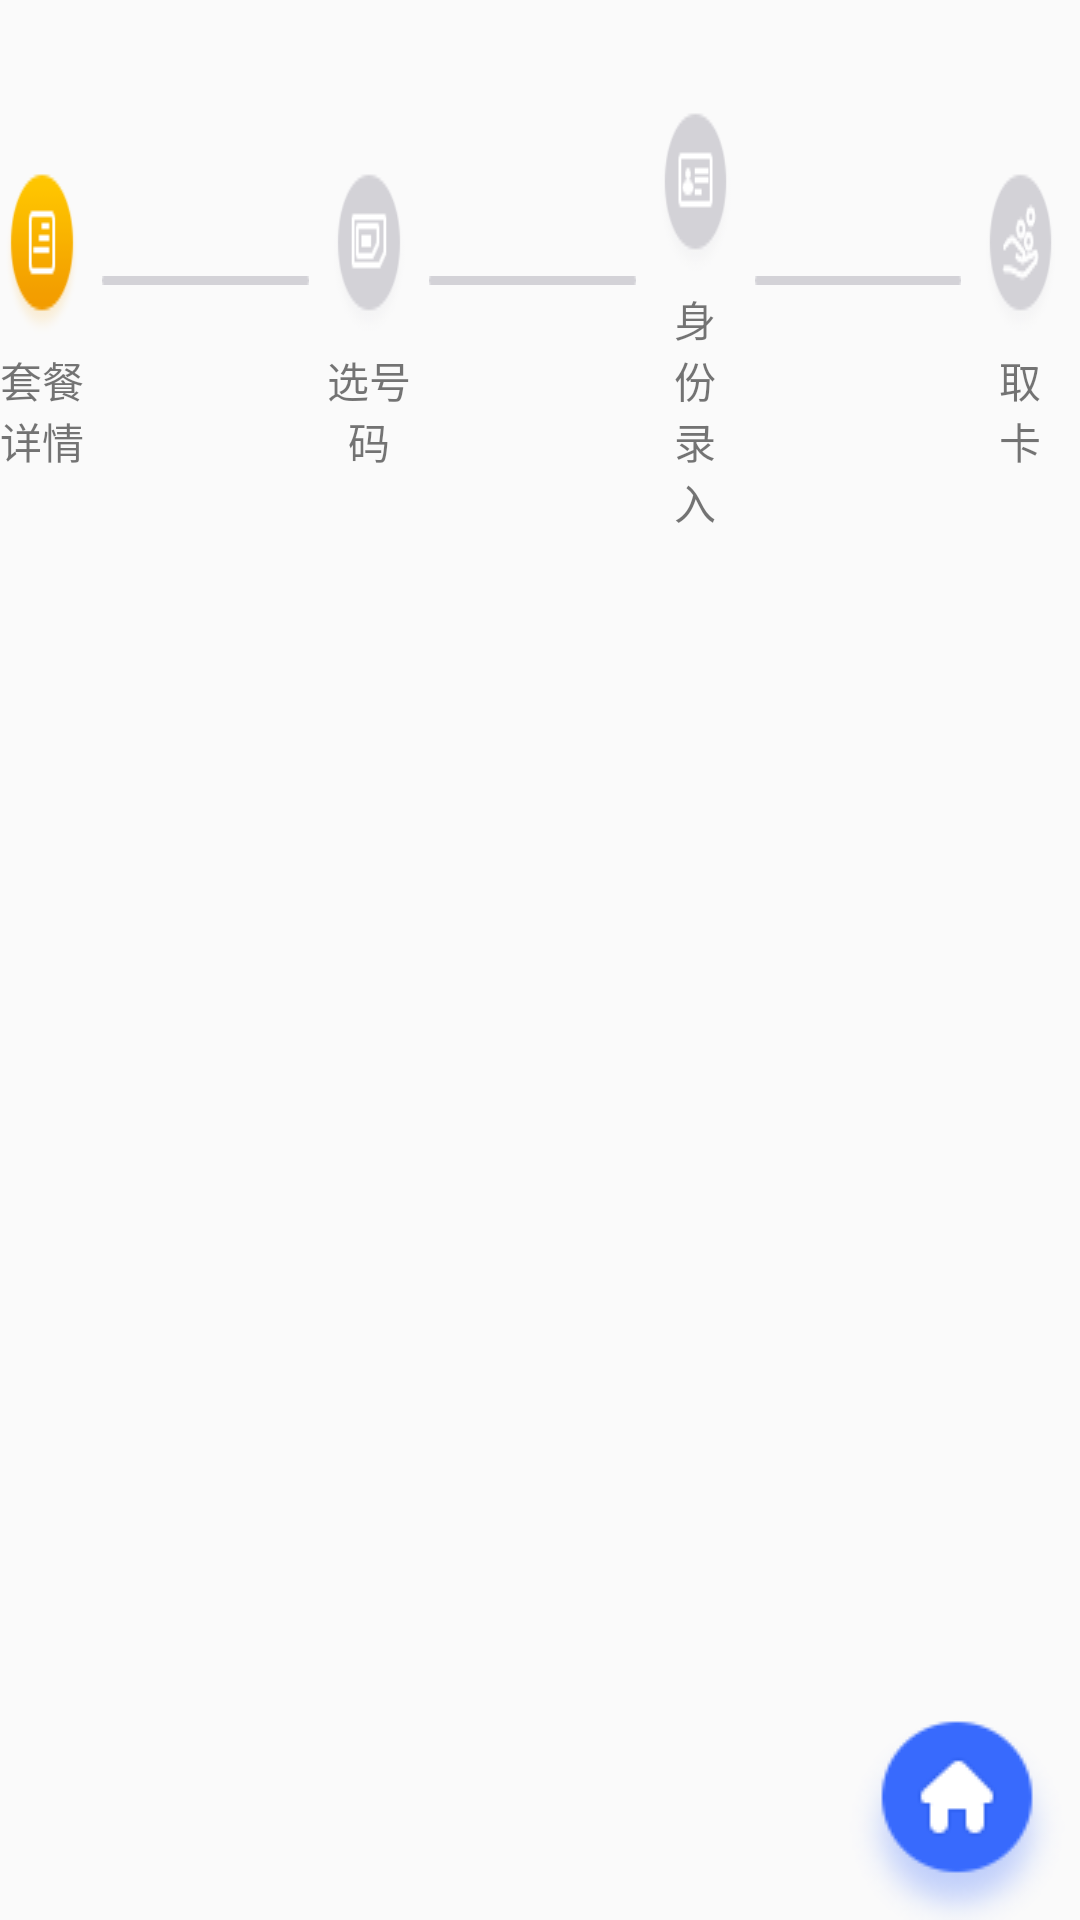

Locate icon controls on the screen. Image size 1080px×1920px, boxes as rect(x1, y1, x2, y2).
mark four pre: rect(990, 175, 1051, 310)
mark one curr: rect(10, 174, 74, 319)
mark three pre: rect(665, 114, 726, 249)
mark two pre: rect(338, 175, 400, 310)
